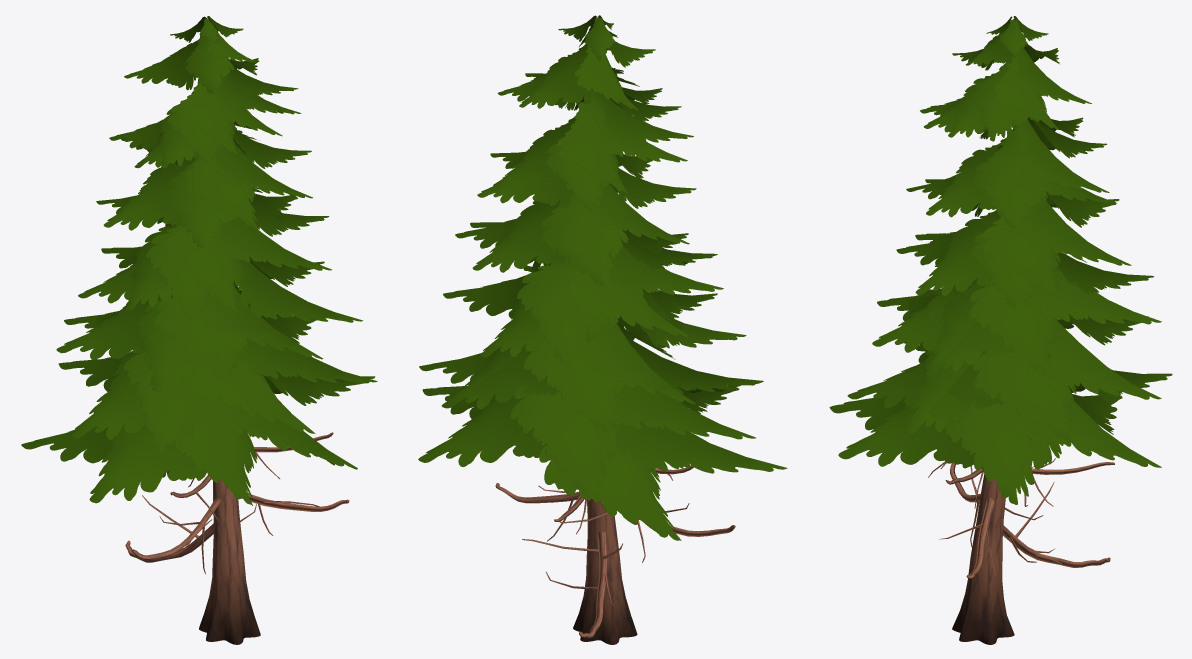
Rendered from Pine_4.gltf.
3 views of the same model, side by side, from view 1: azimuth 30°, elevation 25°; view 2: azimuth 150°, elevation 25°; view 3: azimuth 270°, elevation 25° (orthographic). The views are drawn at different scales.
Visible parts, largest first — view 1: Pine_4; view 2: Pine_4; view 3: Pine_4.
Part boxes in pixels (x1,y1,x2,y2): Pine_4: [21, 16, 377, 644]; Pine_4: [418, 15, 787, 644]; Pine_4: [829, 16, 1172, 644].
Size of the model in its own units: 5.8 by 10.24 by 5.37.
2 materials, 2 textured.
